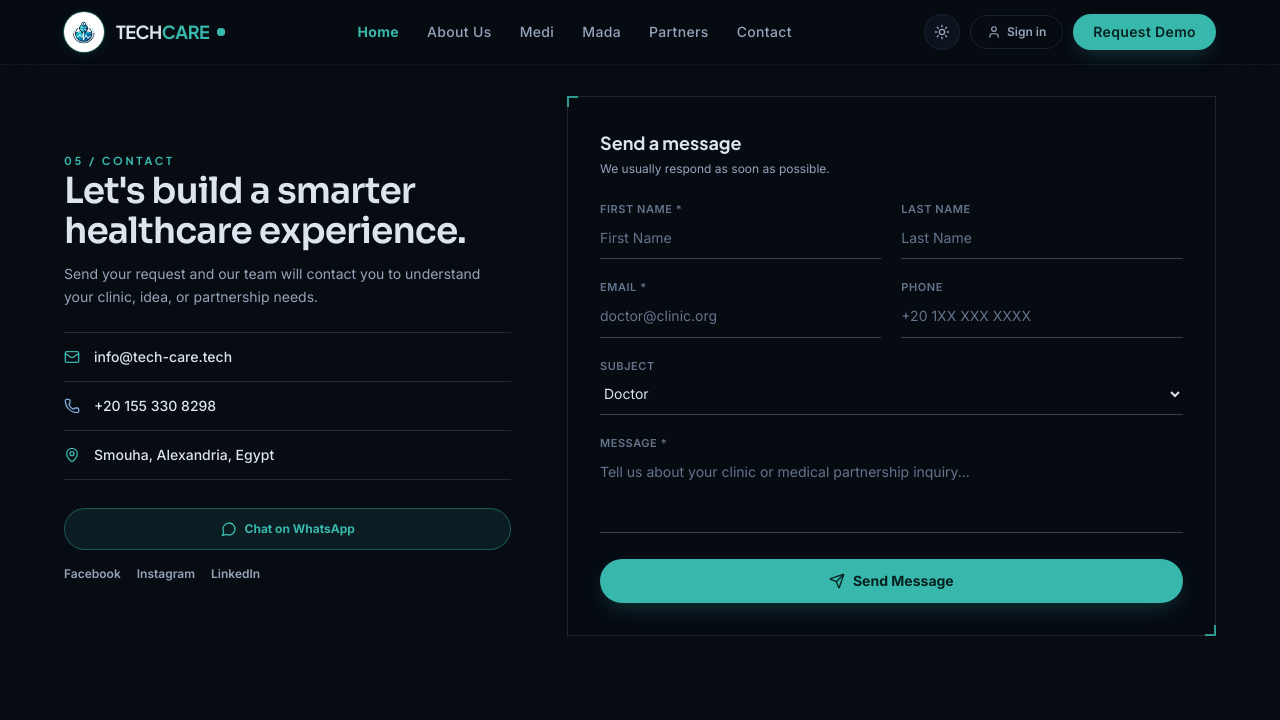
Scenario: TechCare 3D Storytelling Home & Product Flows › ContactSection validates and submits contact form with confirmation receipt
The image size is (1280, 720).
In the field with placeholder "First Name": point(741, 238) [600,218,882,259], type "Ahmed"
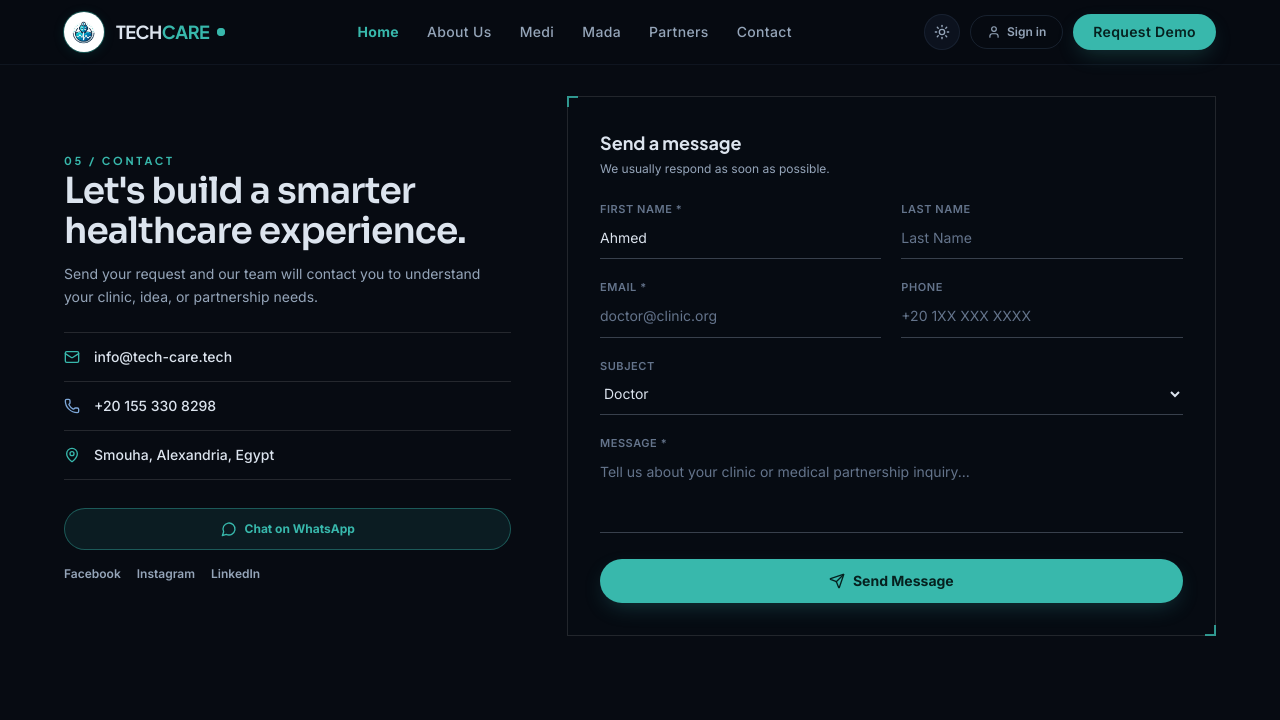
In the field with placeholder "doctor@clinic.org": point(741, 317) [600,296,882,338], type "ahmed@clinic.eg"
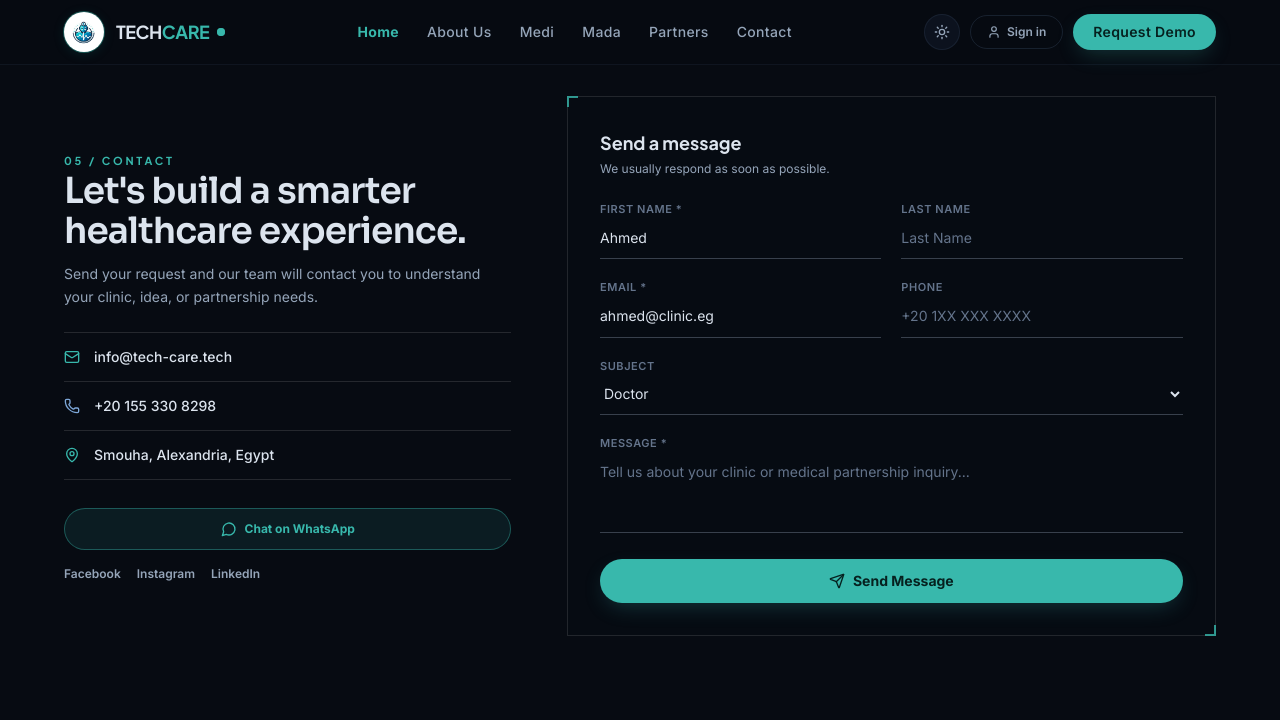
In the text box with placeholder "Tell us about your clinic or medical partnership inquiry...": point(892, 492) [600,451,1183,533], type "Interested in piloting Medi in our Alexandria clinic."
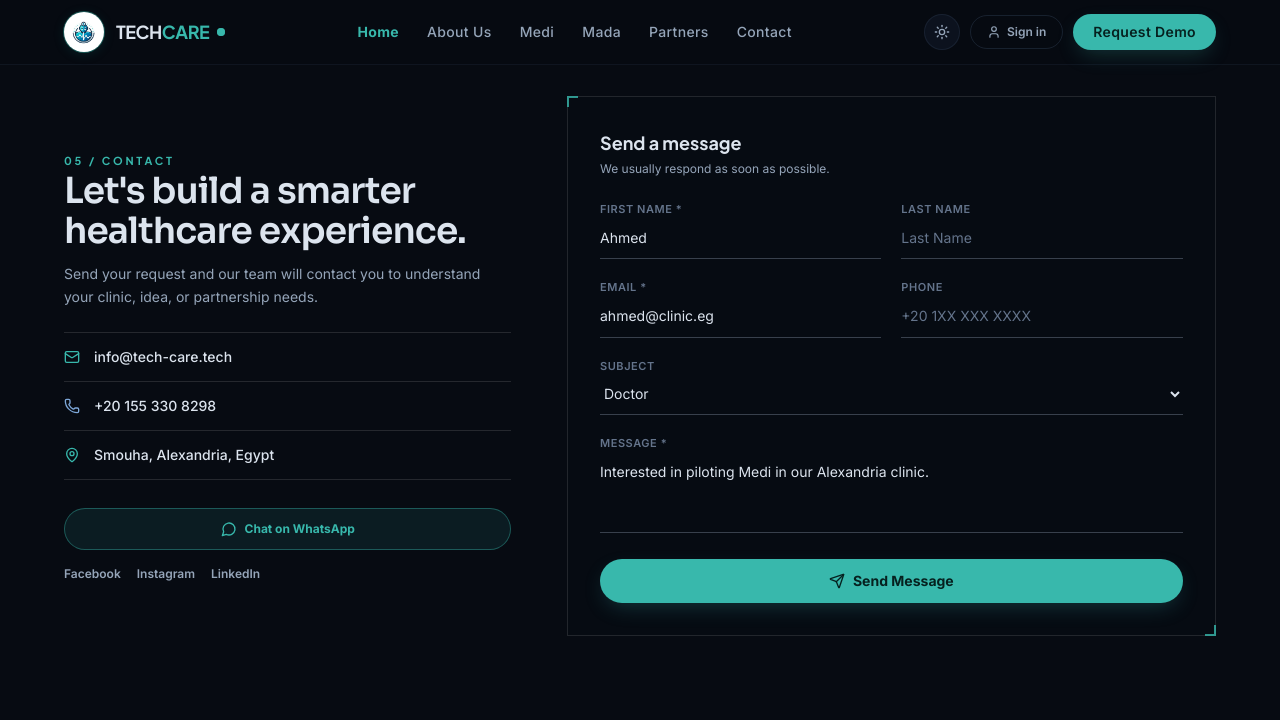
Click the button "Send Message": point(892, 581) [600,559,1183,603]
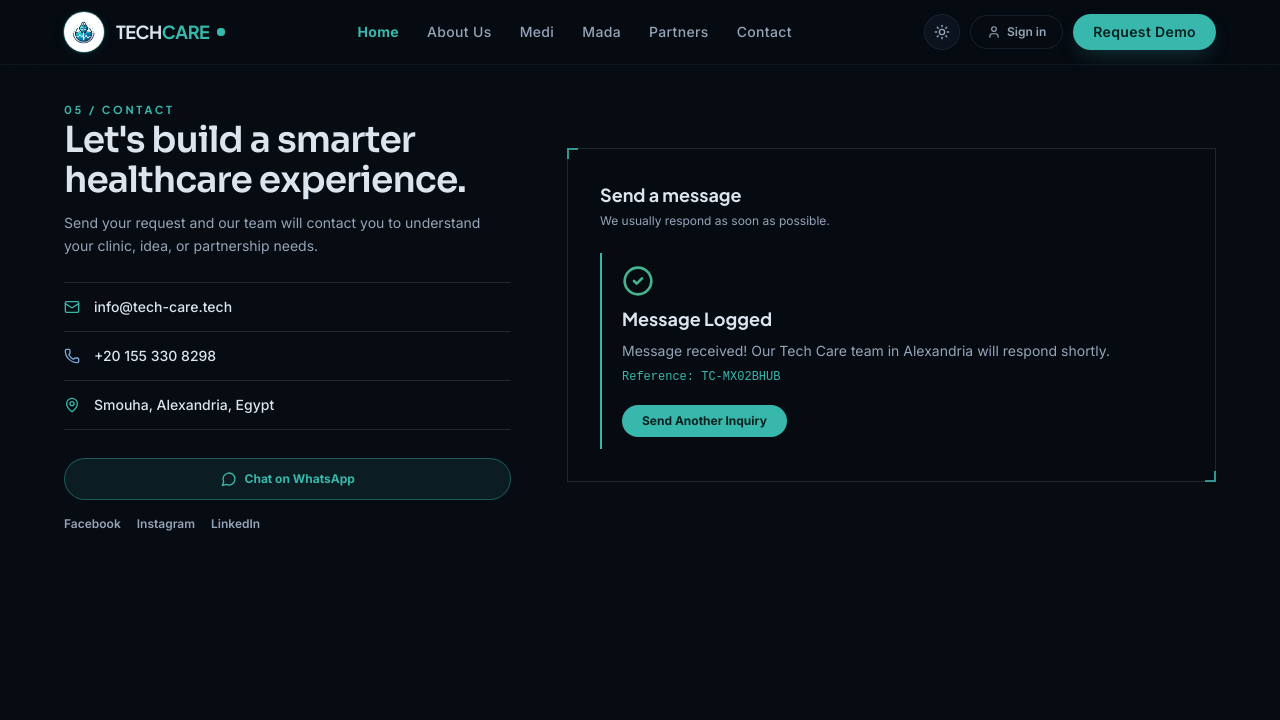
Expected: the heading "Message Logged" is shown, [622,307,772,330]
Expected: the text "Reference: TC-" is shown, [622,370,781,384]
